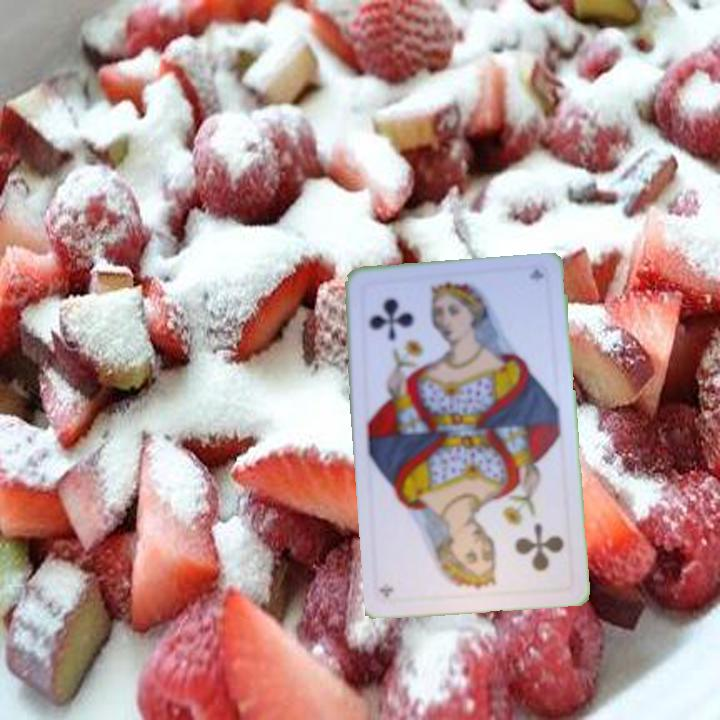c_q.png: (468, 504, 573, 597), (357, 276, 462, 368)
